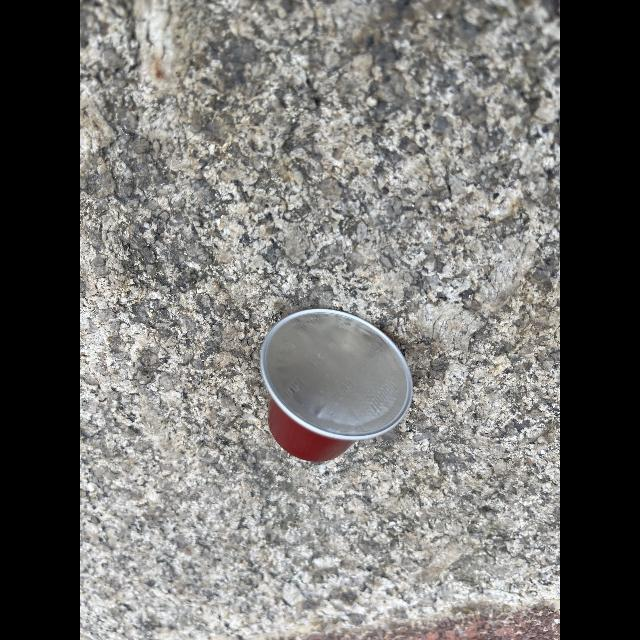intact_capsule: (260, 302, 420, 486)
